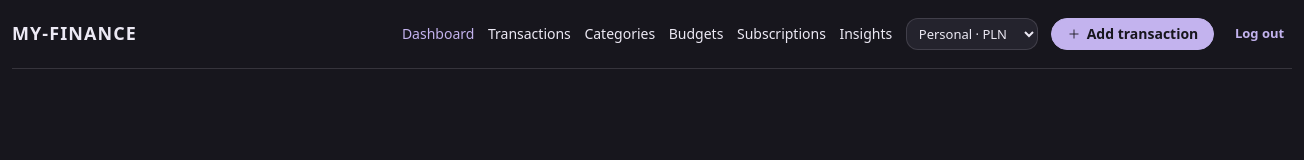
Test: a failed log-out shows the fallback sentence
Click the button "Log out" at coordinates (1260, 34), box [1227, 19, 1292, 50]
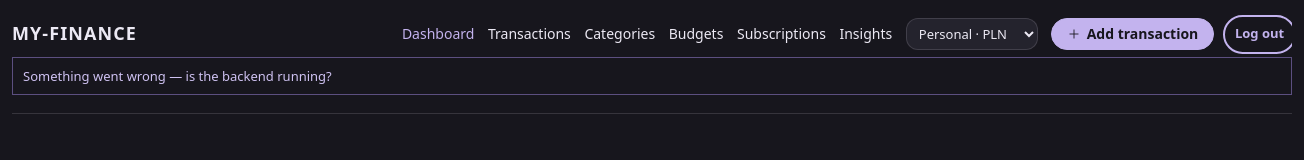
Check: the message reads "Something went wrong — is the backend running?", box [23, 67, 332, 85]
